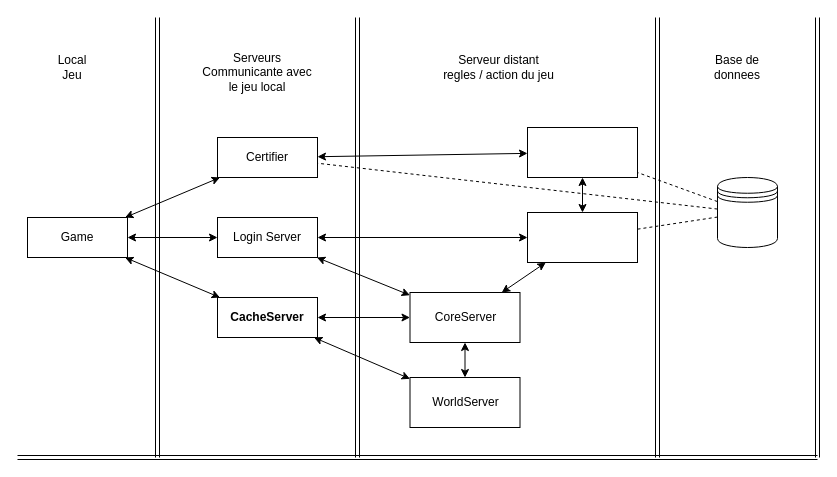
Image size: 837x477. Some labels were removed from this diagram. The shapes that lost their labels are listed below. From the top down, each one's centre as x and y in pixels, then its label:
At [582,152]: "AccountServer".
At [747,212]: "DB".
At [582,237]: "DataBaseServer".
